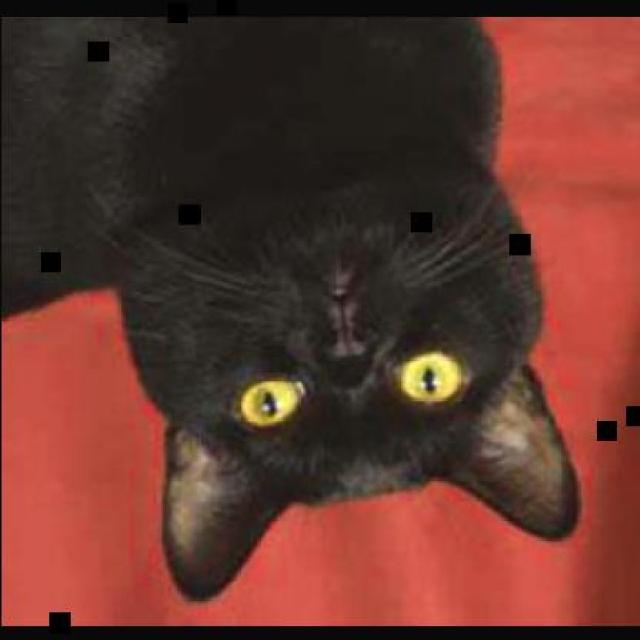unauthorized: (0, 14, 582, 601)
